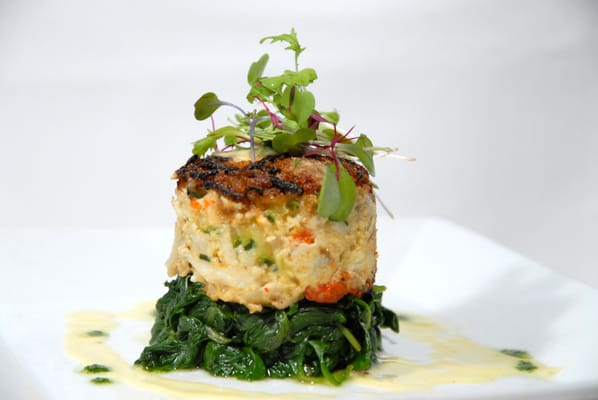soup: (131, 21, 403, 385)
